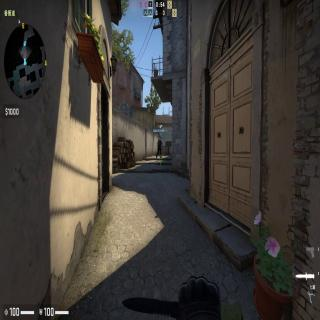CT-Body: (156, 136, 162, 159)
